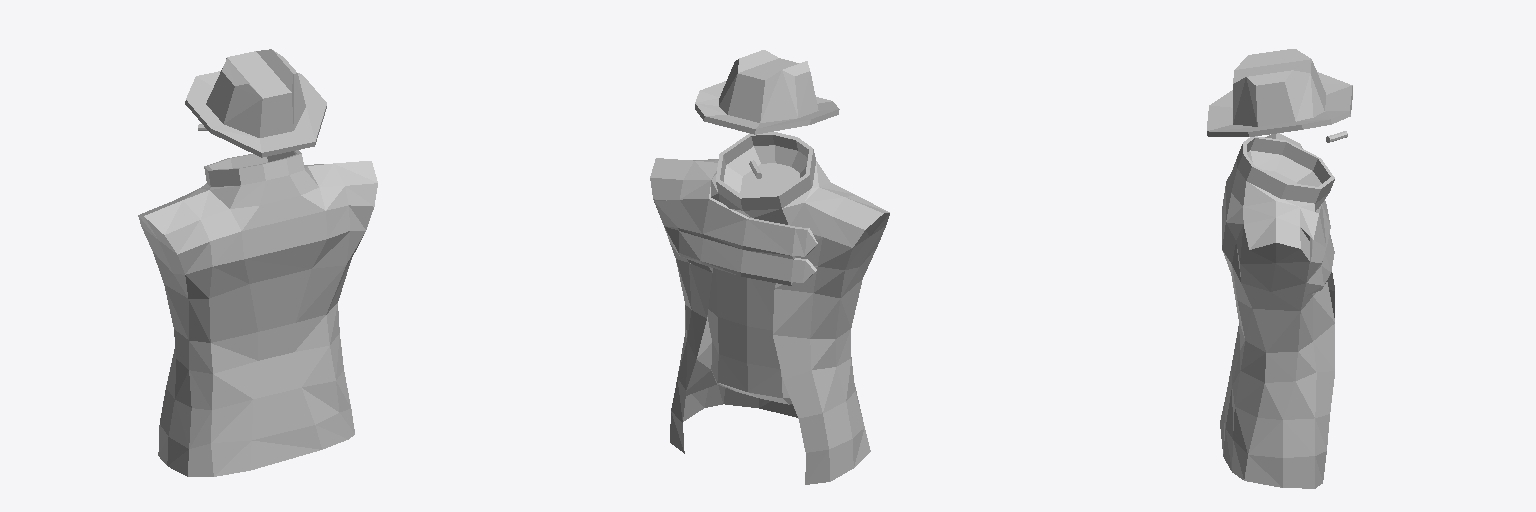
File: PlayerBody_02.obj
The picture shows the model from 3 angles: view 1: azimuth 30°, elevation 25°; view 2: azimuth 150°, elevation 25°; view 3: azimuth 270°, elevation 25°; orthographic projection.
Parts seen in each view (by area): view 1: Body, Hat; view 2: Body, Hat; view 3: Body, Hat.
Boxes of the visible parts, <box> form: Body: <box>138,150,377,476</box>; Hat: <box>185,49,326,157</box>; Body: <box>650,132,889,484</box>; Hat: <box>695,50,839,134</box>; Body: <box>1220,133,1334,488</box>; Hat: <box>1207,49,1352,136</box>.
Bounding box in the file's own units: 0.619 × 1.02 × 0.3458.